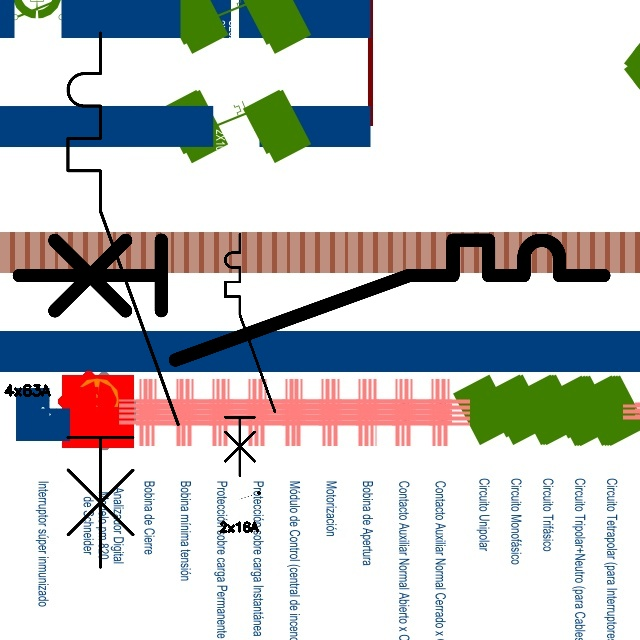interruptor_termomagnetico: (4, 225, 619, 375), (54, 19, 191, 581), (219, 228, 281, 482)
